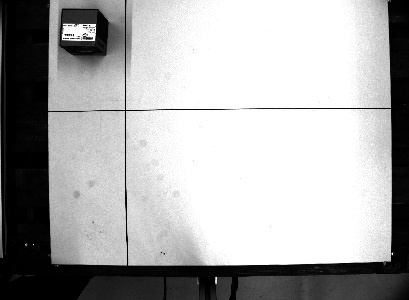b7: (55, 5, 111, 58)
